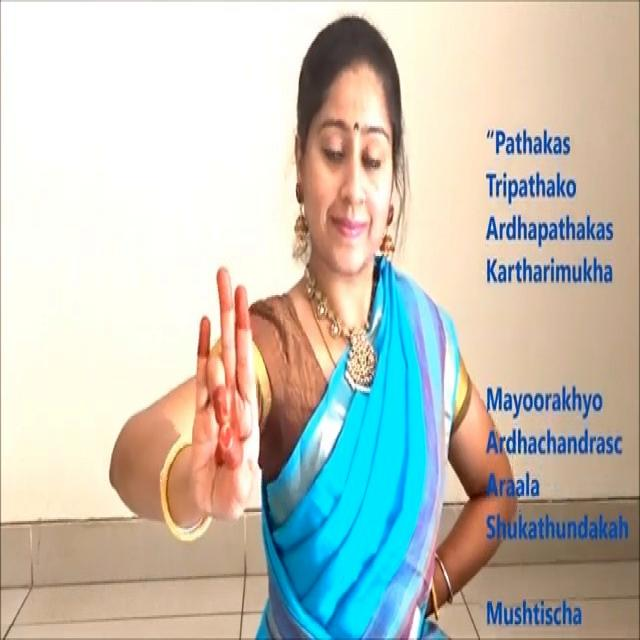Mayura: (184, 250, 278, 538)
lady: (282, 20, 426, 308)
text: (474, 367, 629, 559), (467, 122, 626, 305), (477, 583, 598, 637)
